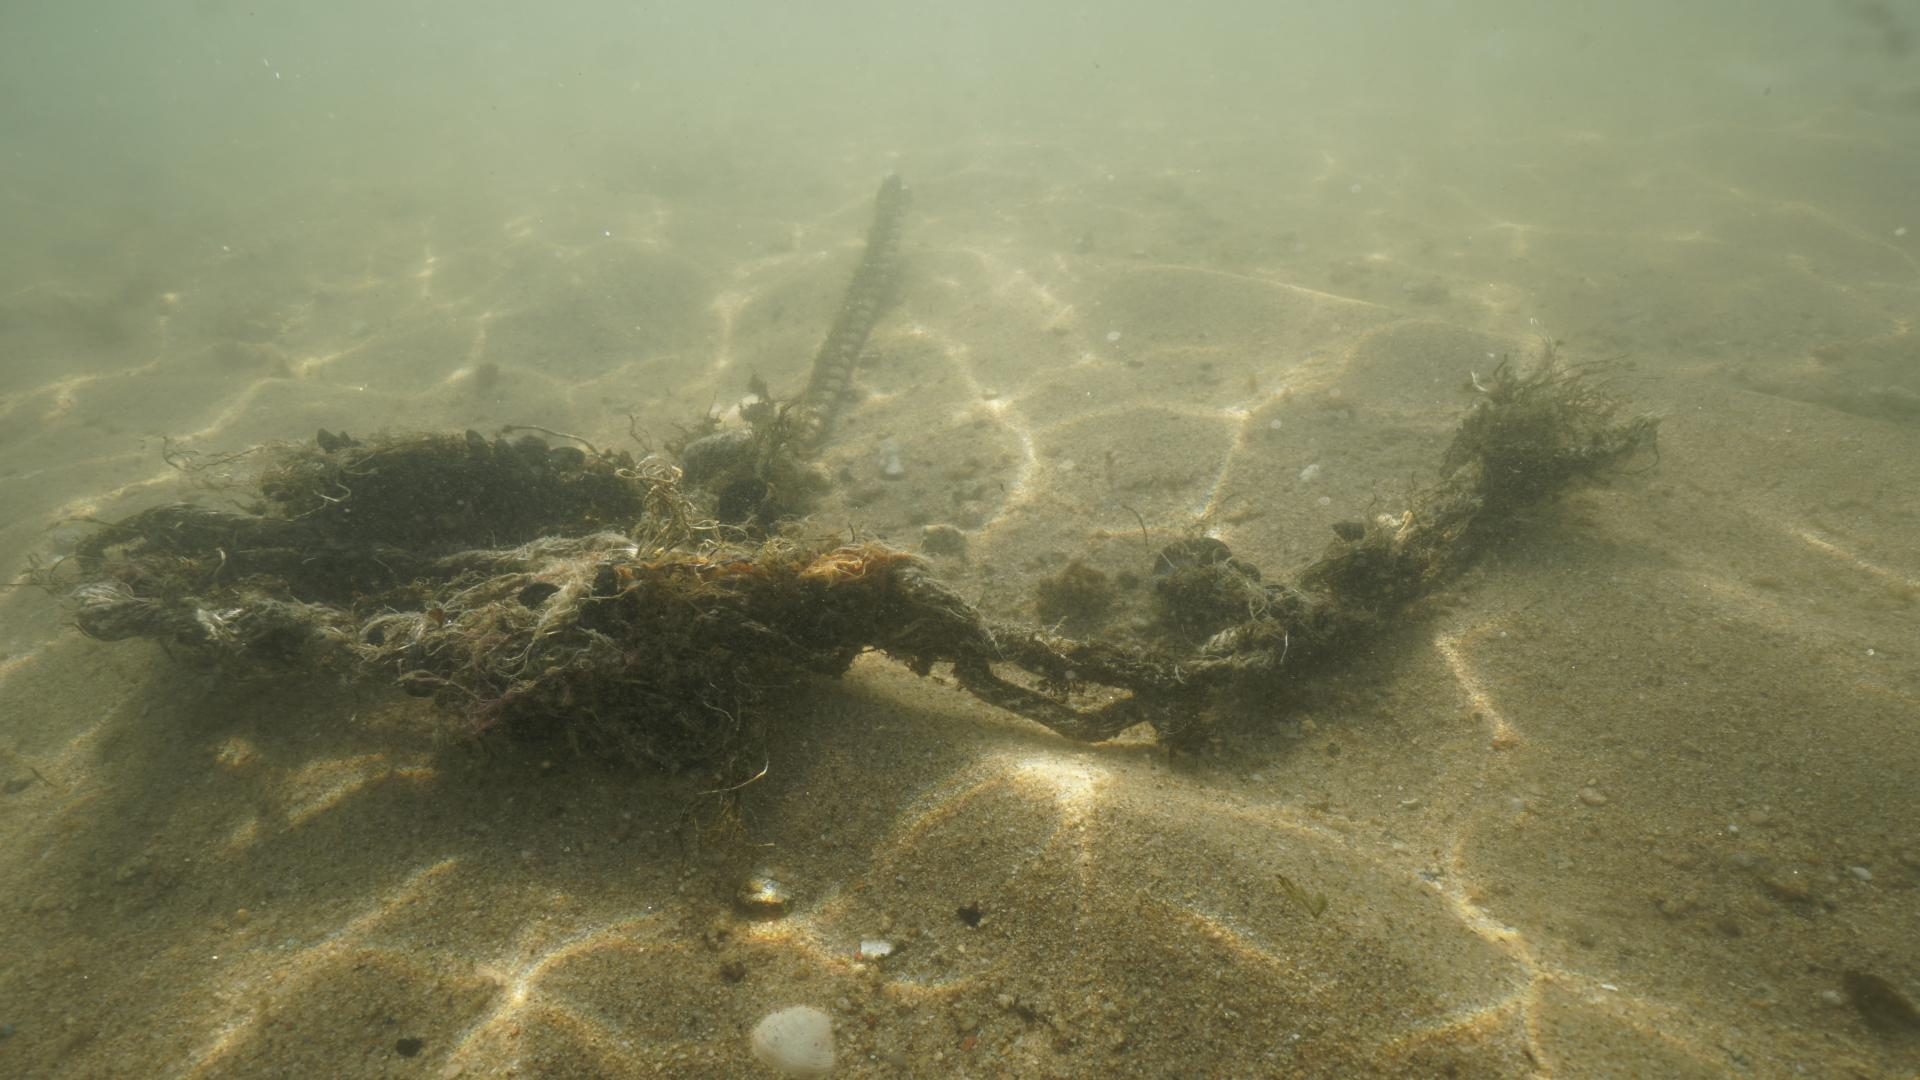rope: (789, 191, 911, 459)
